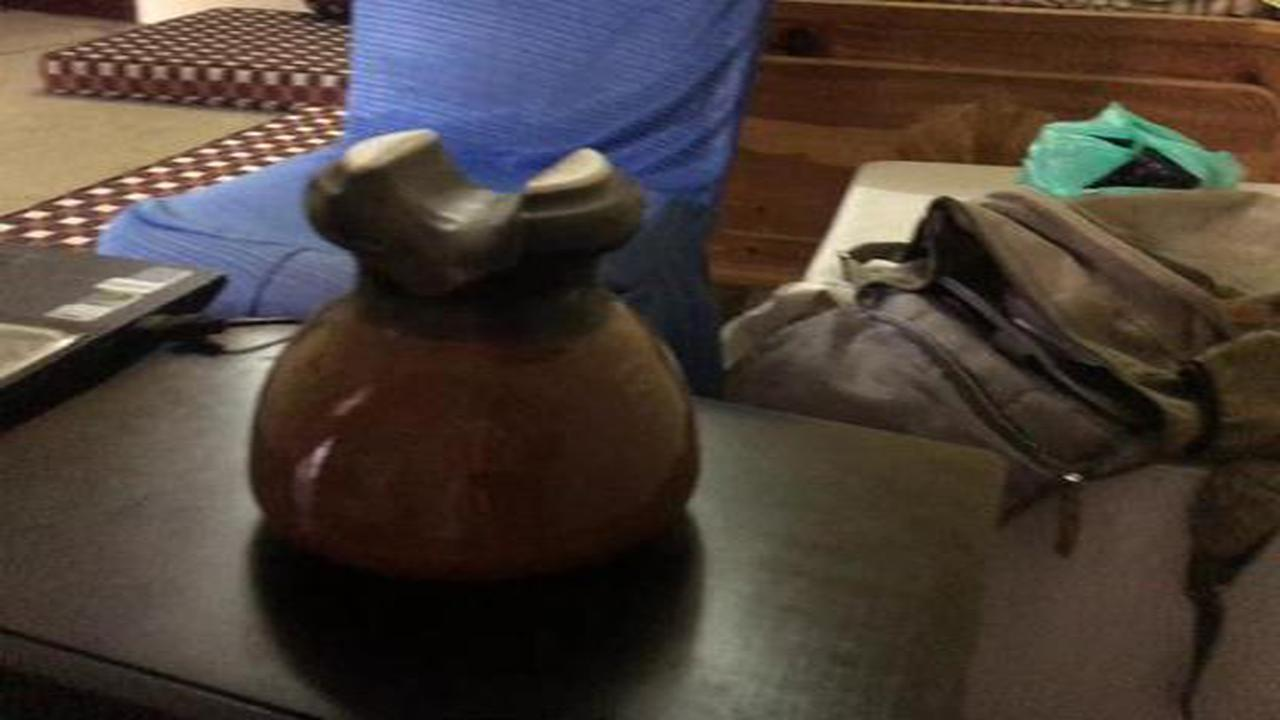insulator_pin: (228, 116, 730, 610)
